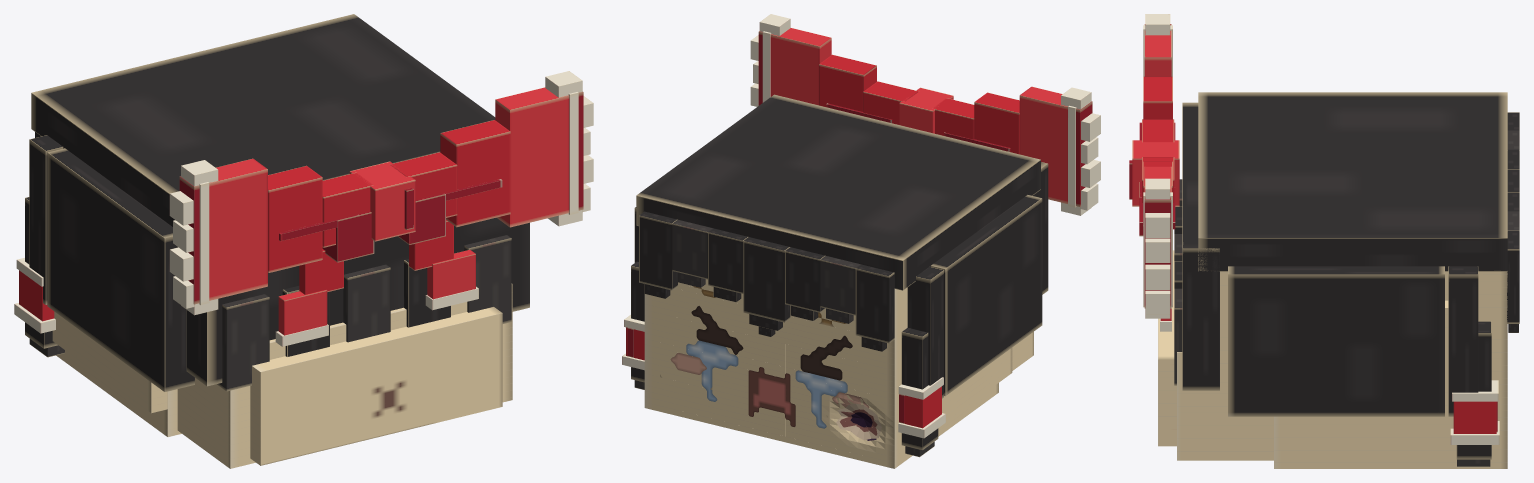
The model's file is body_tear.obj.
3 views of the same model, side by side, from view 1: azimuth 30°, elevation 25°; view 2: azimuth 150°, elevation 25°; view 3: azimuth 270°, elevation 25° (orthographic). The views are drawn at different scales.
Parts seen in each view (by area): view 1: body_tear; view 2: body_tear; view 3: body_tear.
Part boxes in pixels (bbox=[...]): body_tear: bbox=[14, 14, 593, 468]; body_tear: bbox=[622, 14, 1100, 468]; body_tear: bbox=[1129, 14, 1519, 468].
Bounding box in the file's own units: 16.28 × 12.24 × 14.49.
Materials: 1 (1 with a texture image).
